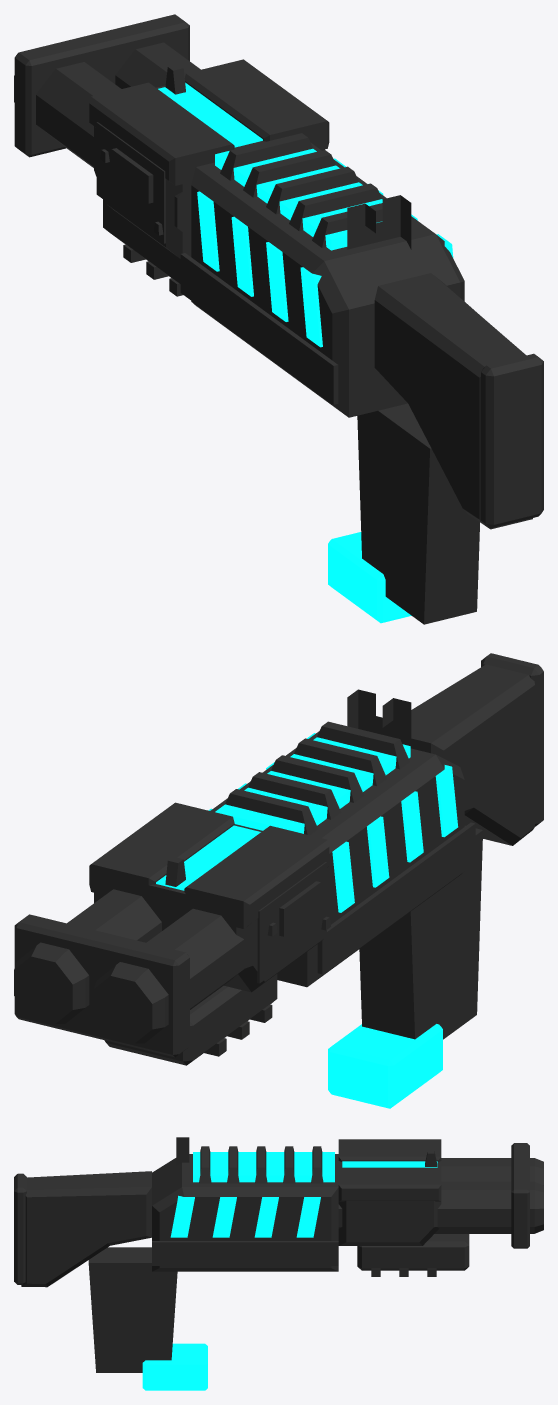
The model's file is scatter.glb.
3 views of the same model, one above another, from view 1: azimuth 30°, elevation 25°; view 2: azimuth 150°, elevation 25°; view 3: azimuth 270°, elevation 25° (orthographic). The views are drawn at different scales.
Parts seen in each view (by area): view 1: grip, trim, frame, heat_vents, heat_cell; view 2: trim, grip, frame, heat_vents, heat_cell; view 3: grip, frame, trim, heat_vents, heat_cell.
Boxes of the visible parts, x1,y1,x2,y2 form: grip: [103, 199, 543, 624]; trim: [14, 14, 411, 407]; frame: [14, 42, 464, 417]; heat_vents: [158, 82, 453, 347]; heat_cell: [328, 532, 411, 623]; trim: [14, 689, 475, 1057]; grip: [104, 653, 543, 1065]; frame: [14, 731, 464, 1043]; heat_vents: [156, 733, 458, 912]; heat_cell: [328, 1024, 442, 1108]; grip: [14, 1171, 469, 1372]; frame: [152, 1154, 543, 1271]; trim: [152, 1137, 529, 1276]; heat_vents: [170, 1152, 437, 1237]; heat_cell: [142, 1343, 207, 1390].
Size of the model in its own units: 0.127 by 0.28 by 0.568.
